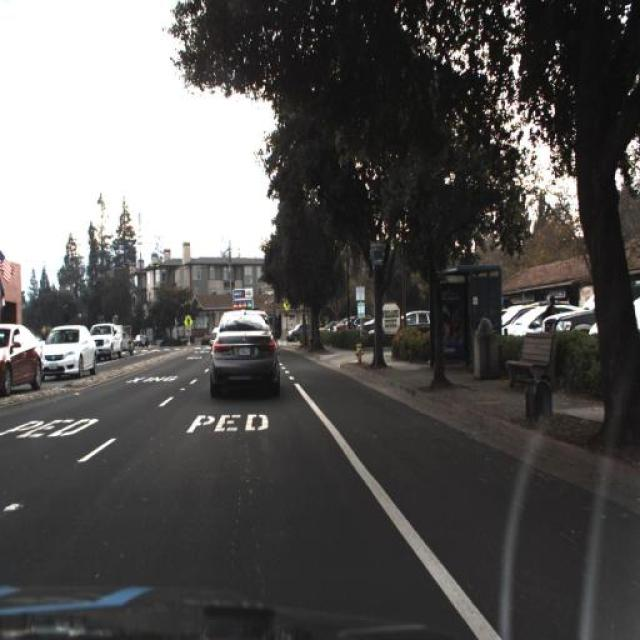car: (204, 300, 284, 400), (0, 323, 44, 398), (548, 291, 603, 350), (44, 320, 98, 376), (500, 296, 550, 342), (394, 296, 440, 342), (89, 322, 122, 370), (279, 312, 313, 352), (135, 330, 153, 350), (131, 330, 147, 350)
trafficLight: (544, 292, 558, 316)
